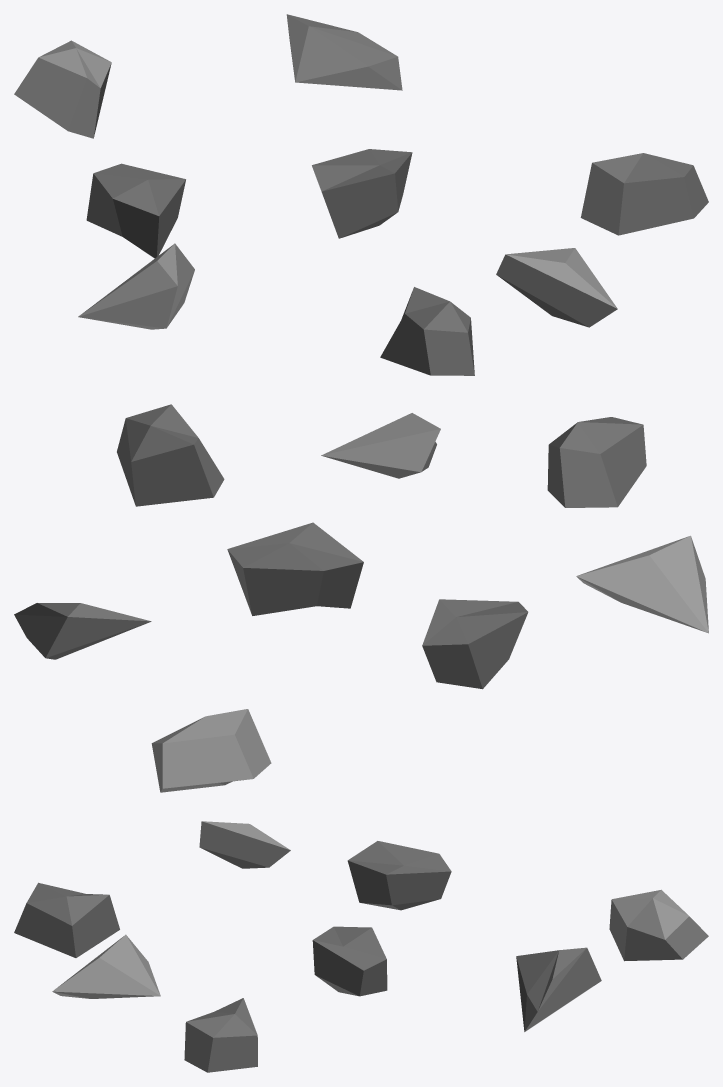
Rendered from Pebbles_02.fbx.
3 renders of one model, top to bottom at view 1: azimuth 30°, elevation 25°; view 2: azimuth 150°, elevation 25°; view 3: azimuth 270°, elevation 25°, orthographic. The views are drawn at different scales.
Parts seen in each view (by area): view 1: pSphere11, pSphere12, pSphere13, pSphere9, pSphere15, pSphere10, pSphere14, pSphere8; view 2: pSphere13, pSphere11, pSphere14, pSphere12, pSphere15, pSphere8, pSphere9, pSphere10; view 3: pSphere12, pSphere14, pSphere15, pSphere9, pSphere13, pSphere11, pSphere10, pSphere8.
Part boxes in pixels (<box>): pSphere11: <box>580,153,708,235</box>; pSphere12: <box>86,163,185,258</box>; pSphere13: <box>312,149,412,238</box>; pSphere9: <box>286,14,402,90</box>; pSphere15: <box>14,40,111,138</box>; pSphere10: <box>496,248,617,327</box>; pSphere14: <box>380,287,474,375</box>; pSphere8: <box>78,243,194,329</box>; pSphere13: <box>227,522,363,615</box>; pSphere11: <box>117,404,224,506</box>; pSphere14: <box>547,417,646,507</box>; pSphere12: <box>422,599,528,689</box>; pSphere15: <box>151,709,271,792</box>; pSphere8: <box>576,535,708,633</box>; pSphere9: <box>14,603,151,659</box>; pSphere10: <box>321,413,440,478</box>; pSphere12: <box>347,841,451,910</box>; pSphere14: <box>14,882,119,957</box>; pSphere15: <box>609,889,708,961</box>; pSphere9: <box>516,947,601,1031</box>; pSphere13: <box>312,926,387,996</box>; pSphere11: <box>184,998,257,1072</box>; pSphere10: <box>52,934,160,998</box>; pSphere8: <box>199,821,290,868</box>.
Size of the model in its own units: 0.6027 by 0.0969 by 0.754.
1 material, 1 textured.
